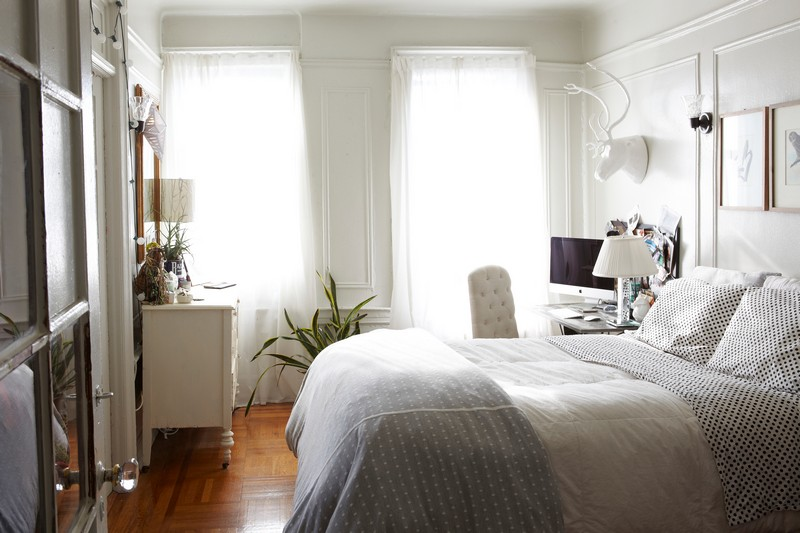bed: (294, 278, 796, 526)
chair: (469, 260, 523, 353)
lamp: (594, 235, 660, 329), (143, 175, 196, 264)
stool: (143, 291, 243, 469)
table: (533, 293, 655, 345)
